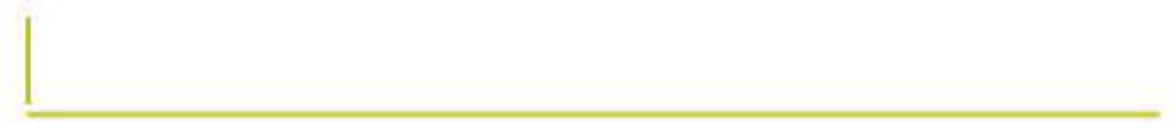EditText: (1, 1, 1175, 139)
